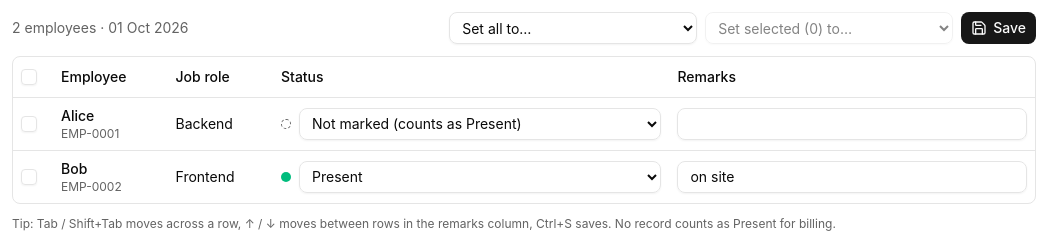
Scenario: BulkAttendanceGrid › "Set selected to" only changes selected rows
Expected: the dropdown named "Set selected to" is disabled, [705,12,953,44]
Click the checkbox named "Select Alice". click: (29, 124)
box: [21,116,37,132]
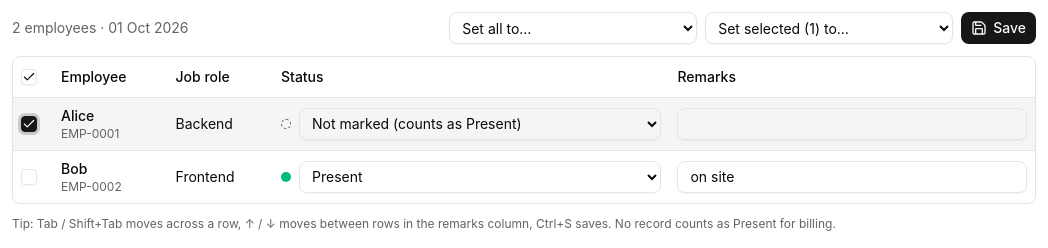
Select "Half Day Leave" in the dropdown named "Set selected to". click: (829, 28)
box: [705,12,953,44]
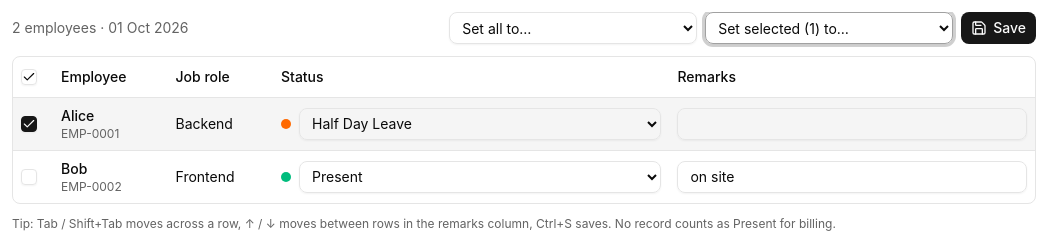
Now the dropdown named "Status for Alice" shows "Half Day Leave", box [299,108,662,140]
